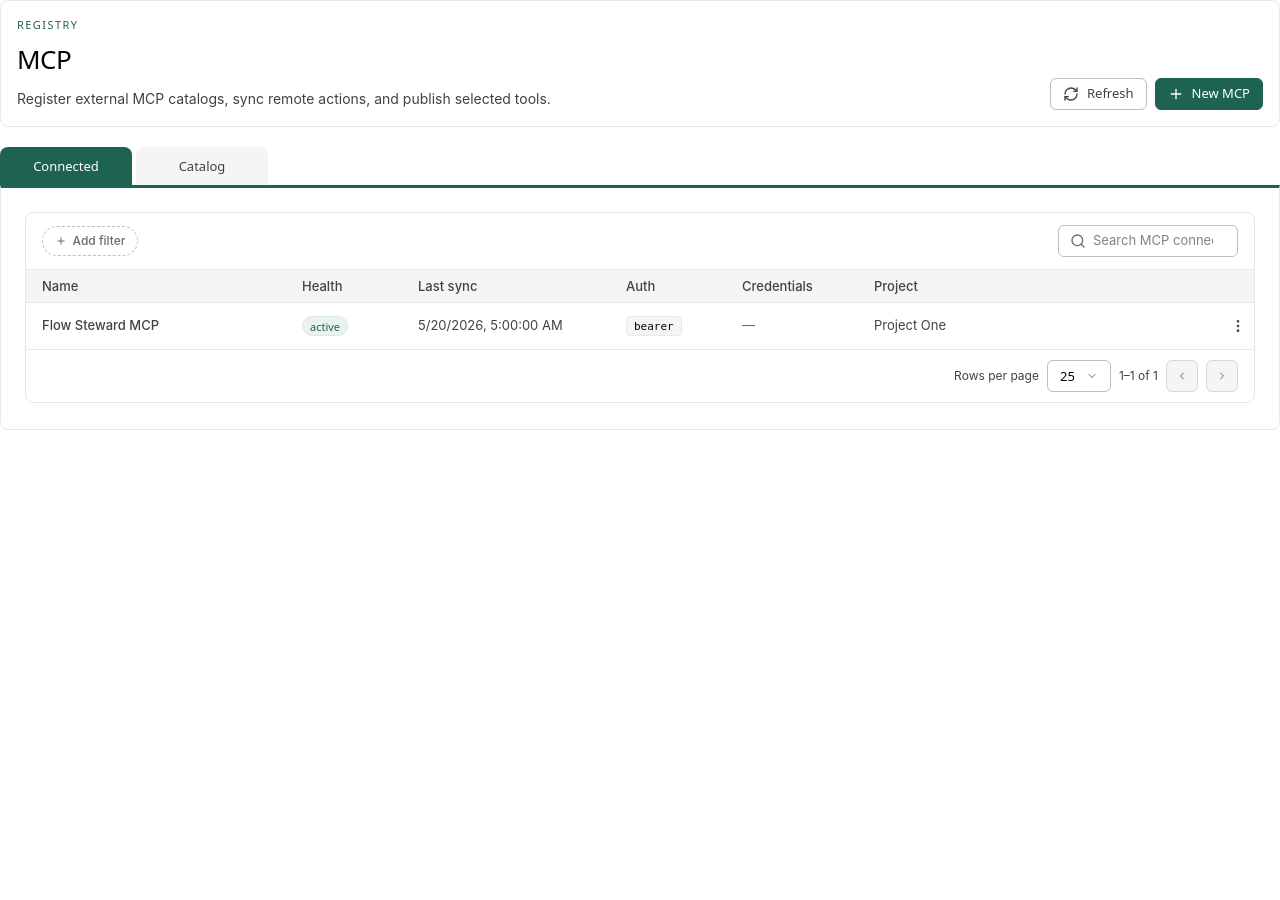
Test case: RegistryMcpPage › asks which project a new connector belongs to, with the only one chosen
This screenshot has width=1280, height=900.
Click the button "New MCP": (1209, 94) [1155,78,1263,110]
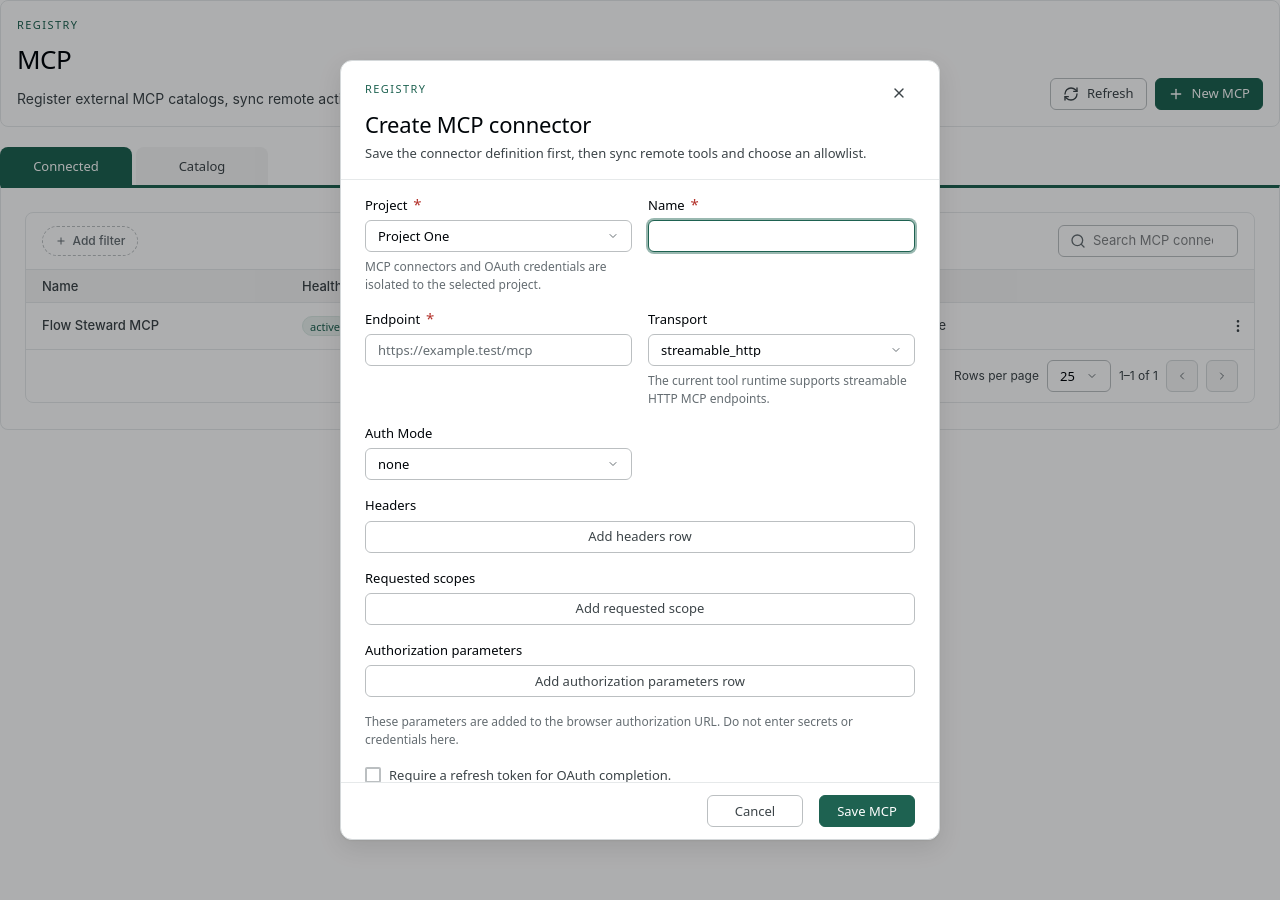
Expected: the dropdown labelled "Project" reads "Project One", [365,220,632,252]
